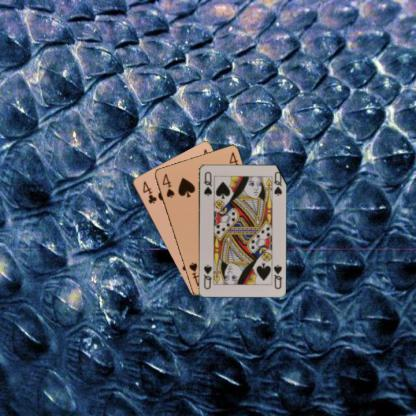4c: (140, 178, 158, 205)
4s: (160, 171, 176, 199)
Qs: (201, 169, 213, 197), (271, 262, 283, 290)
